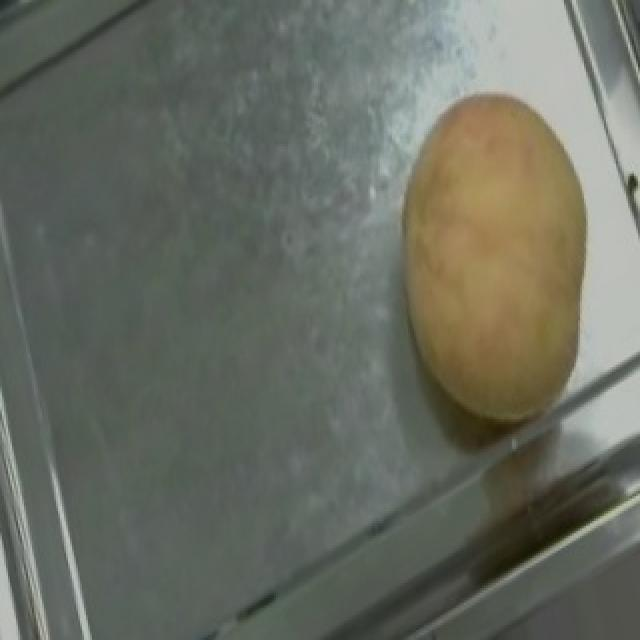Fruit: (348, 57, 638, 444)
